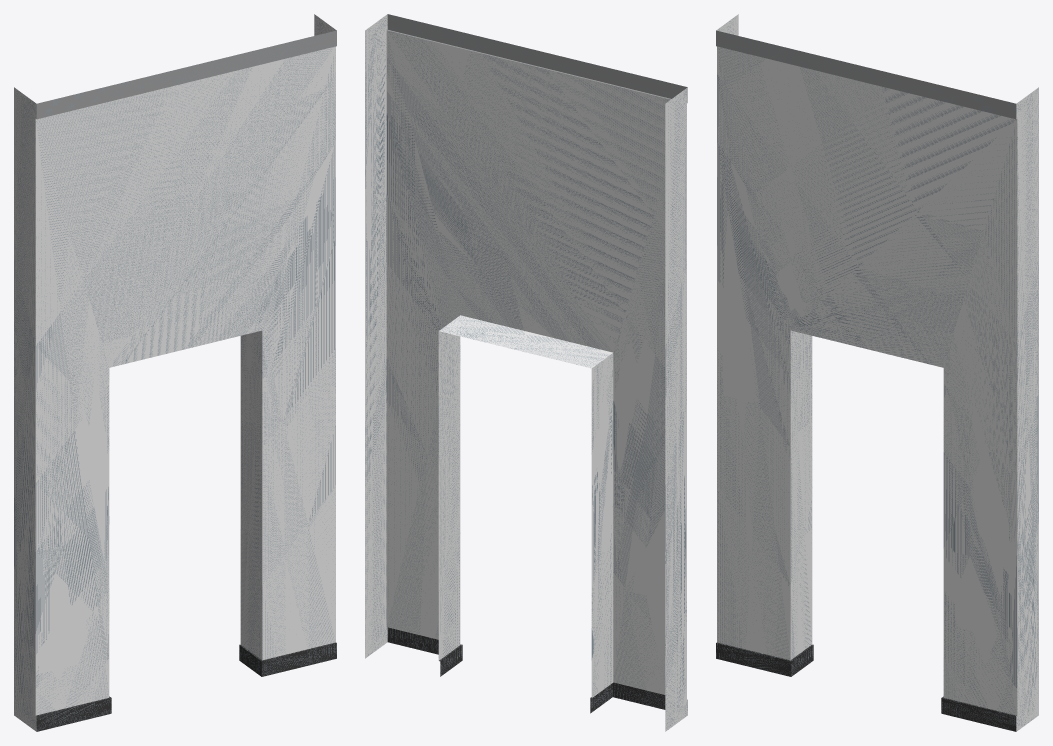
Rendered from BlockWall_os_plinth_[200x400x025]_102x220_doorway.dae.
3 renders of one model, left to right at view 1: azimuth 30°, elevation 25°; view 2: azimuth 150°, elevation 25°; view 3: azimuth 330°, elevation 25°, orthographic.
Visible parts, largest first — view 1: SketchUp (×4); view 2: SketchUp (×4); view 3: SketchUp (×4).
Boxes of the visible parts, <box> form: SketchUp (×4): <box>14,14,336,731</box>; SketchUp (×4): <box>365,14,687,731</box>; SketchUp (×4): <box>716,14,1038,731</box>.
Size of the model in its own units: 78.74 by 10.24 by 157.
